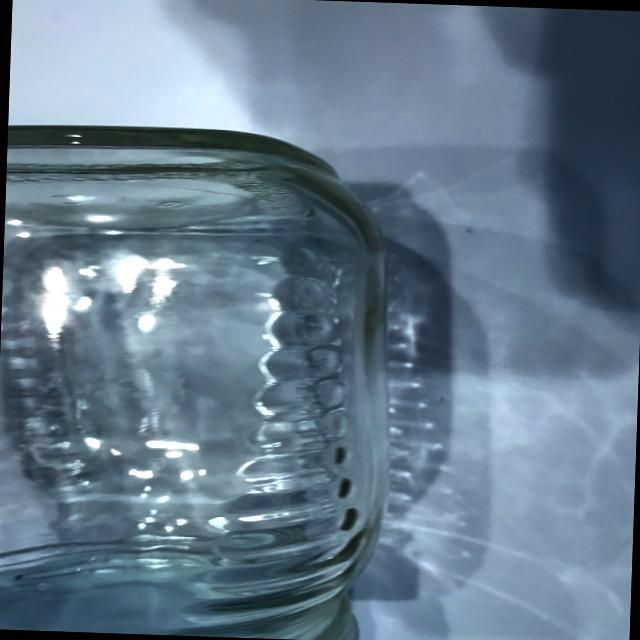glass: (0, 113, 407, 640)
